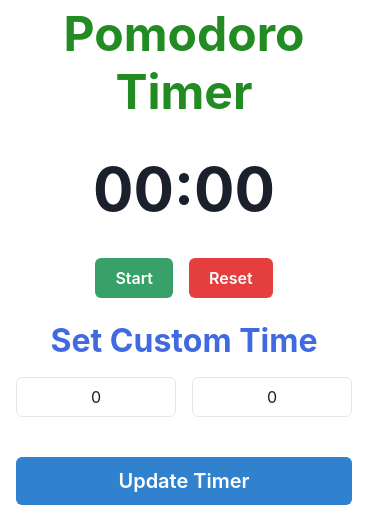
it: PomodoroTimer › Custom Time Input › updates timer with custom values when Update Timer is clicked
Replace the text in the number field named "Minutes input" with "5" at x=96, y=397, box top-left (16, 377), bottom-right (176, 417)
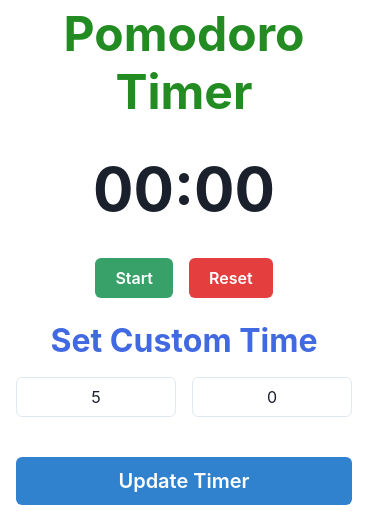
Replace the text in the number field named "Seconds input" with "45" at x=272, y=397, box top-left (192, 377), bottom-right (352, 417)
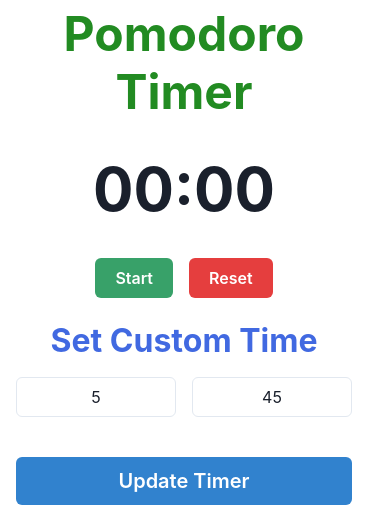
Click the button "Update Timer" at x=184, y=481, box top-left (16, 457), bottom-right (352, 505)
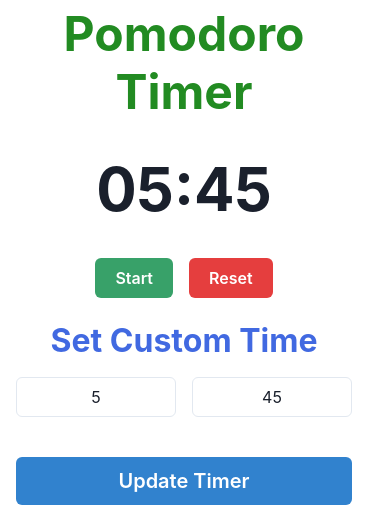
Now the text "05:45" is shown, box top-left (96, 153), bottom-right (272, 225)
